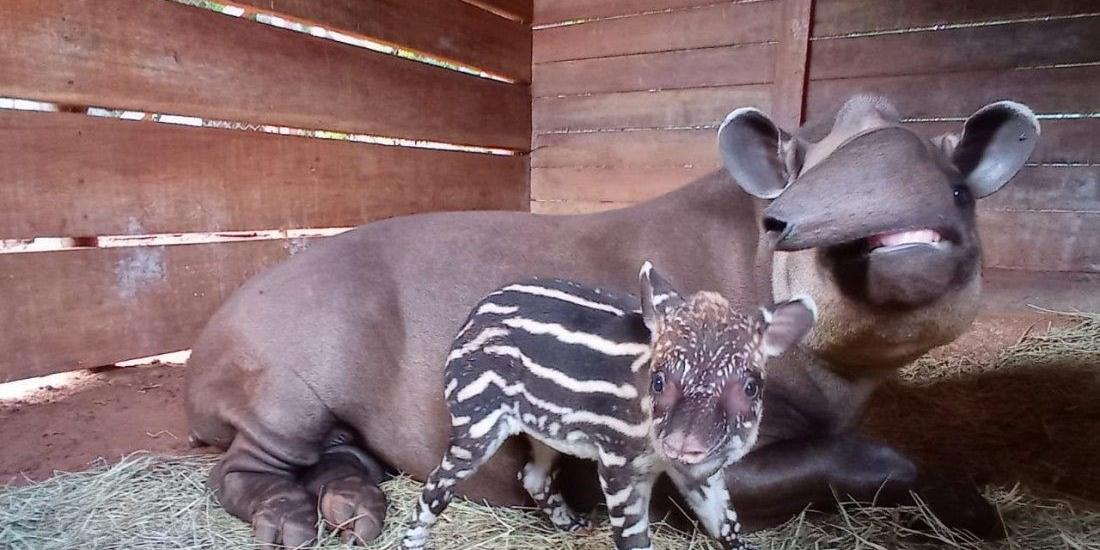Anta: (159, 84, 1073, 541), (412, 264, 828, 536)
